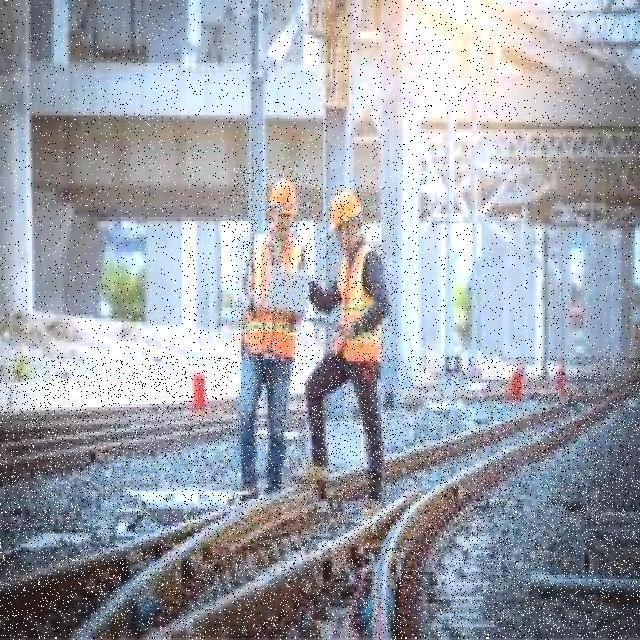rail: (1, 359, 640, 639)
